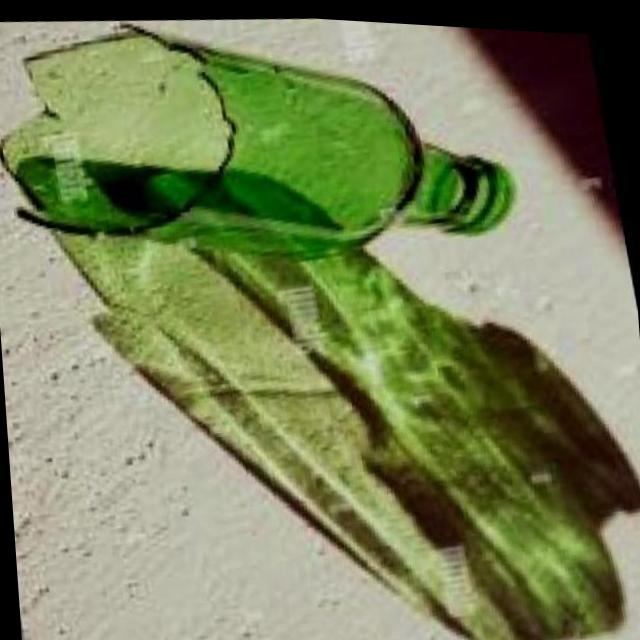Dry: (0, 1, 522, 278)
